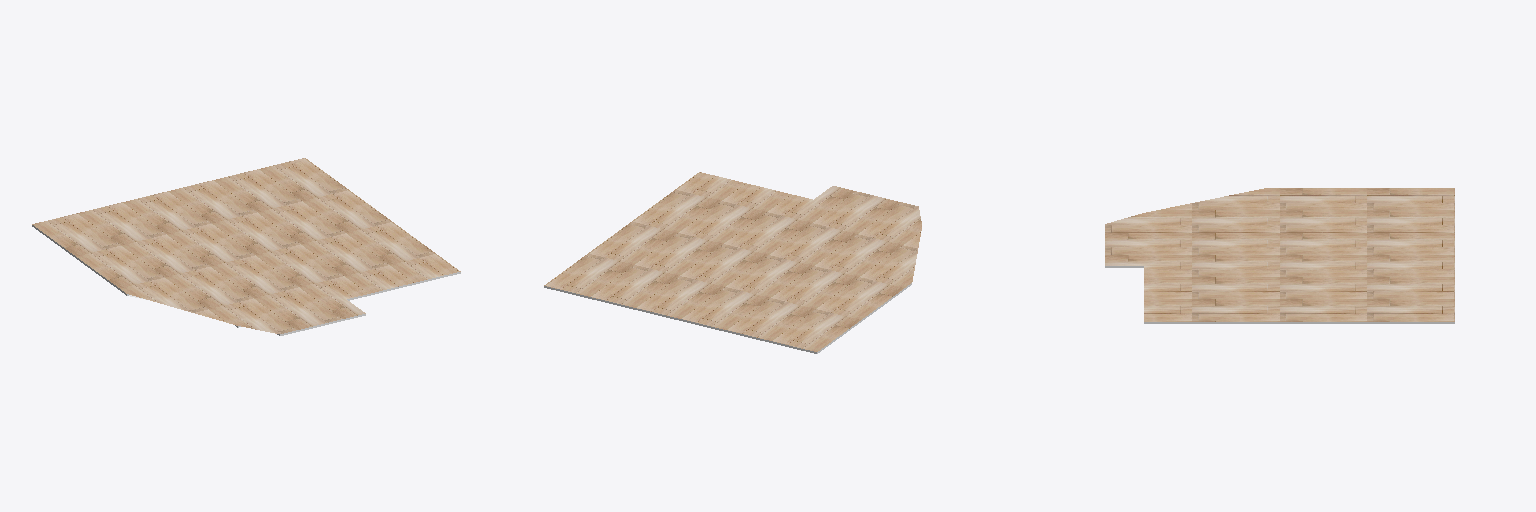
3 views of the same model, side by side, from view 1: azimuth 30°, elevation 25°; view 2: azimuth 150°, elevation 25°; view 3: azimuth 270°, elevation 25° (orthographic).
Visible parts, largest first — view 1: Mesh1 D_floor_tilles_ceramic_wood_6mm1 Model; view 2: Mesh1 D_floor_tilles_ceramic_wood_6mm1 Model; view 3: Mesh1 D_floor_tilles_ceramic_wood_6mm1 Model.
Boxes of the visible parts, <box> form: Mesh1 D_floor_tilles_ceramic_wood_6mm1 Model: <box>32,158,460,335</box>; Mesh1 D_floor_tilles_ceramic_wood_6mm1 Model: <box>544,172,921,353</box>; Mesh1 D_floor_tilles_ceramic_wood_6mm1 Model: <box>1105,188,1454,323</box>.
Size of the model in its own units: 85.43 by 0.5906 by 94.72.
2 materials, 1 textured.